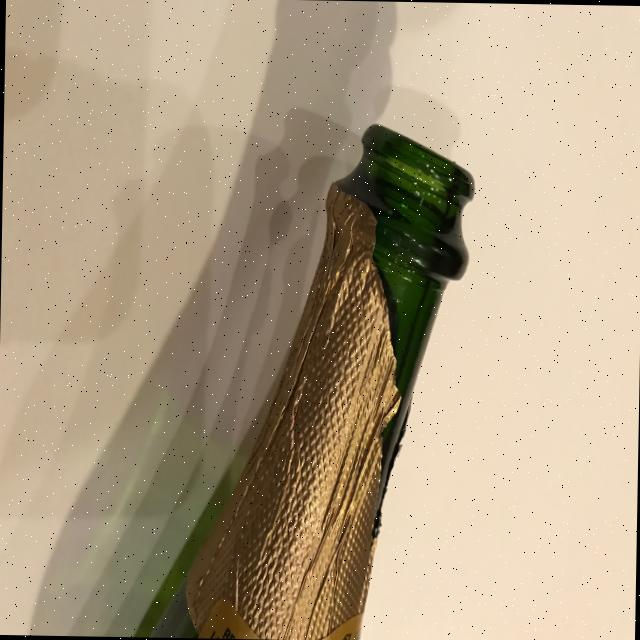glass: (181, 118, 475, 640)
